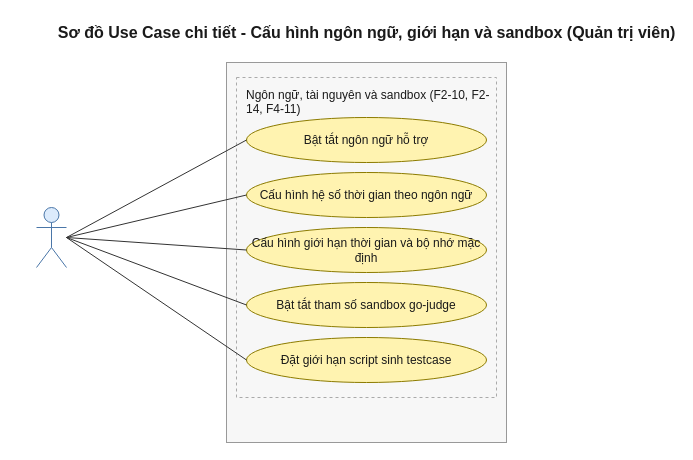
This 693x460 diagram has some shape labels left out. The shapes that lost their labels are listed below. From the top down, each one's box as (x1, y1, x2, y2) in pixels, then its label:
(36, 206, 66, 268): Quản trị viên
(226, 62, 506, 442): Cấu hình ngôn ngữ và giới hạn chấm
